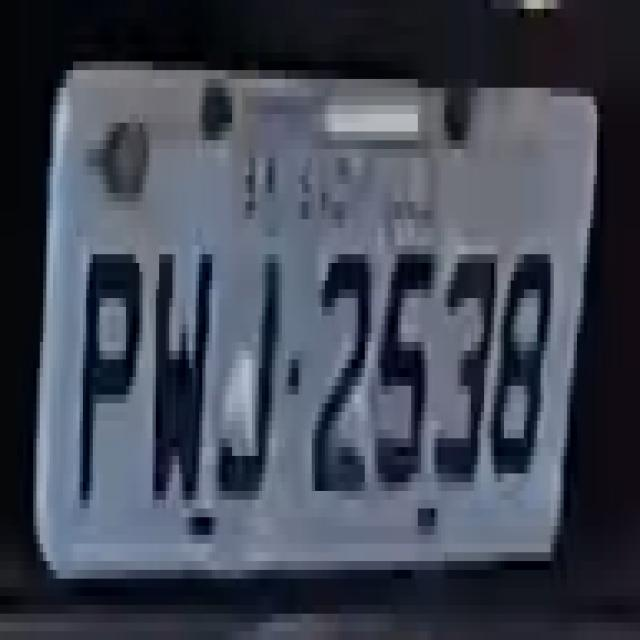Placa_mercosul_carro: (30, 72, 597, 585)
